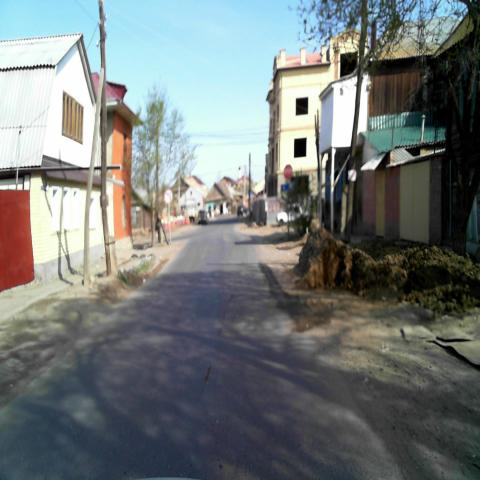3_18_2: (163, 189, 172, 204)
